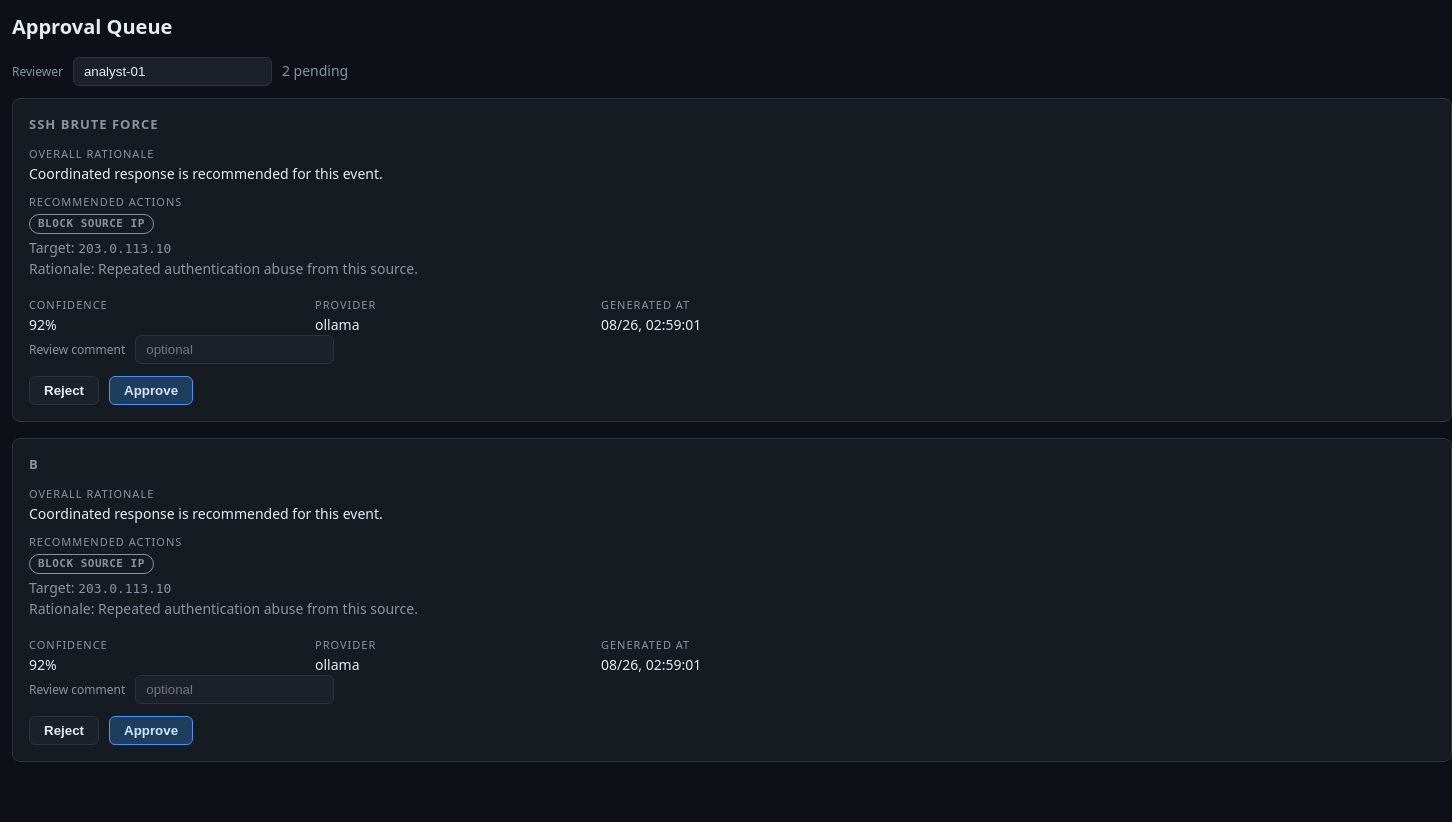
Scenario: ApprovalQueuePage › deciding never touches /incidents or any endpoint besides the approval contract
The image size is (1452, 822).
Click the button "Approve" below "SSH Brute Force".
click(151, 391)  # box top-left (109, 376), bottom-right (193, 405)
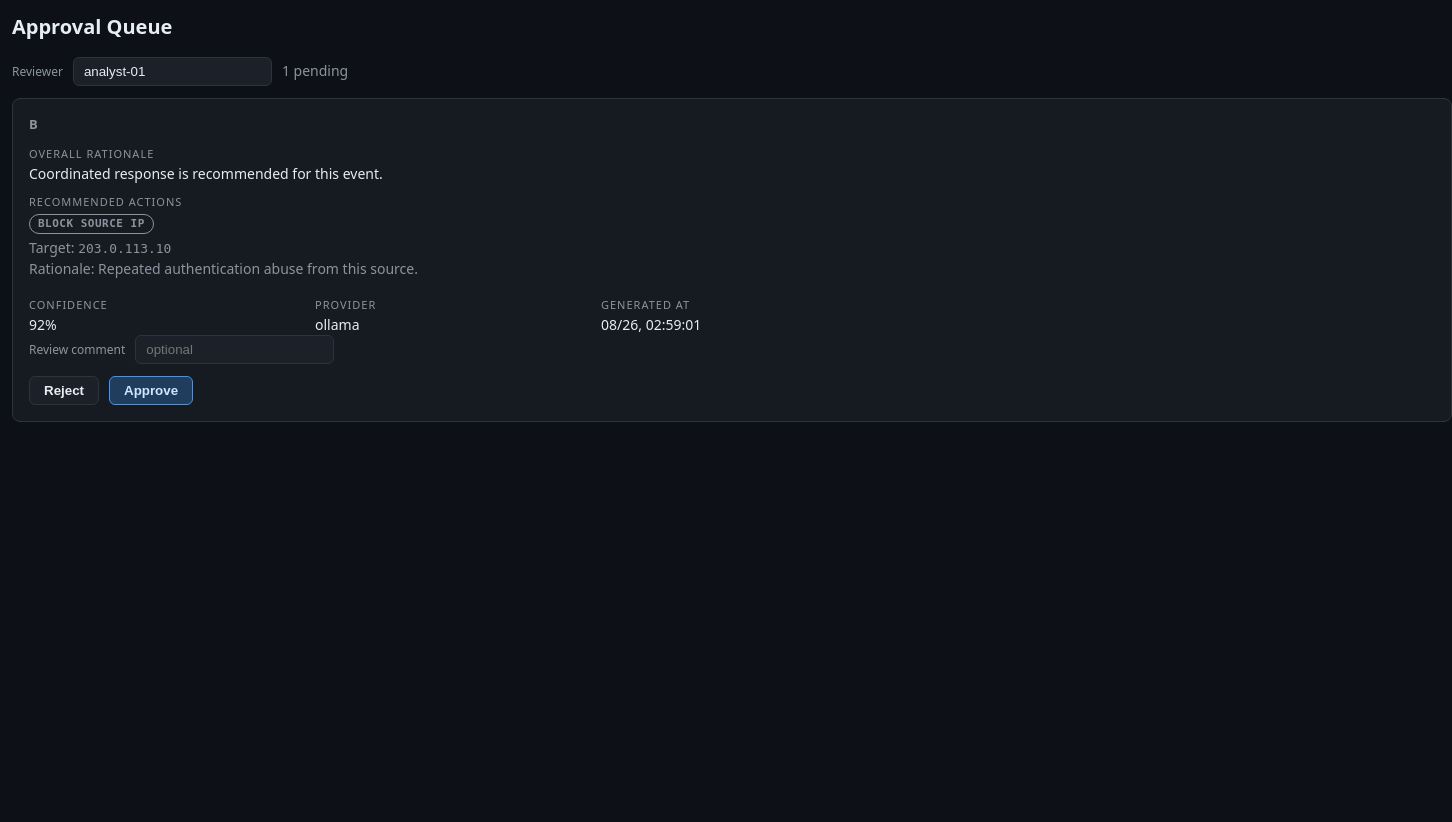
Expected: the text "1 pending" is shown, top-left (282, 61), bottom-right (348, 82)
Click the button "Reject".
click(64, 391)  # box top-left (29, 376), bottom-right (99, 405)
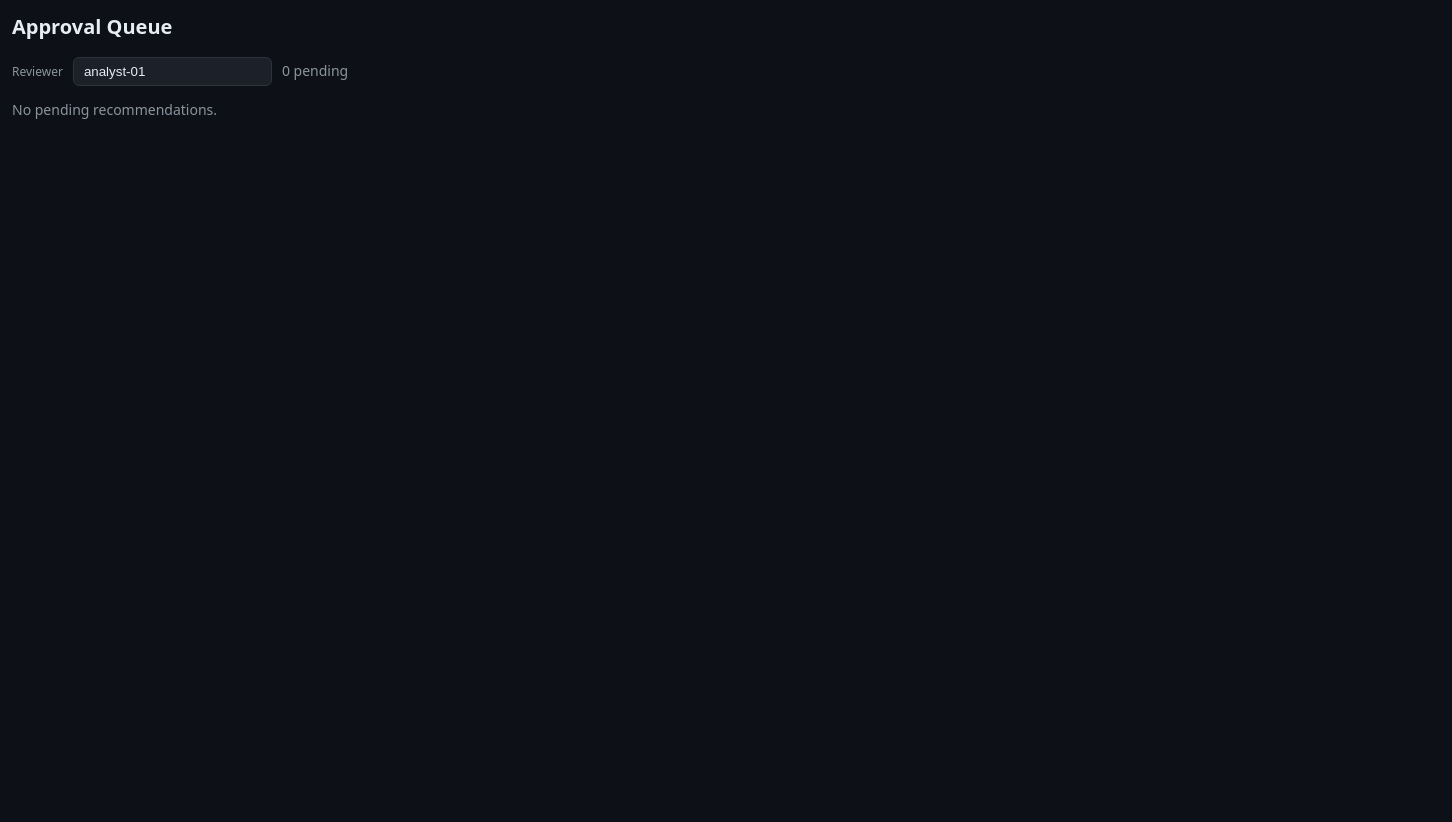
Expected: the text "No pending recommendations." is shown, top-left (12, 100), bottom-right (217, 119)
